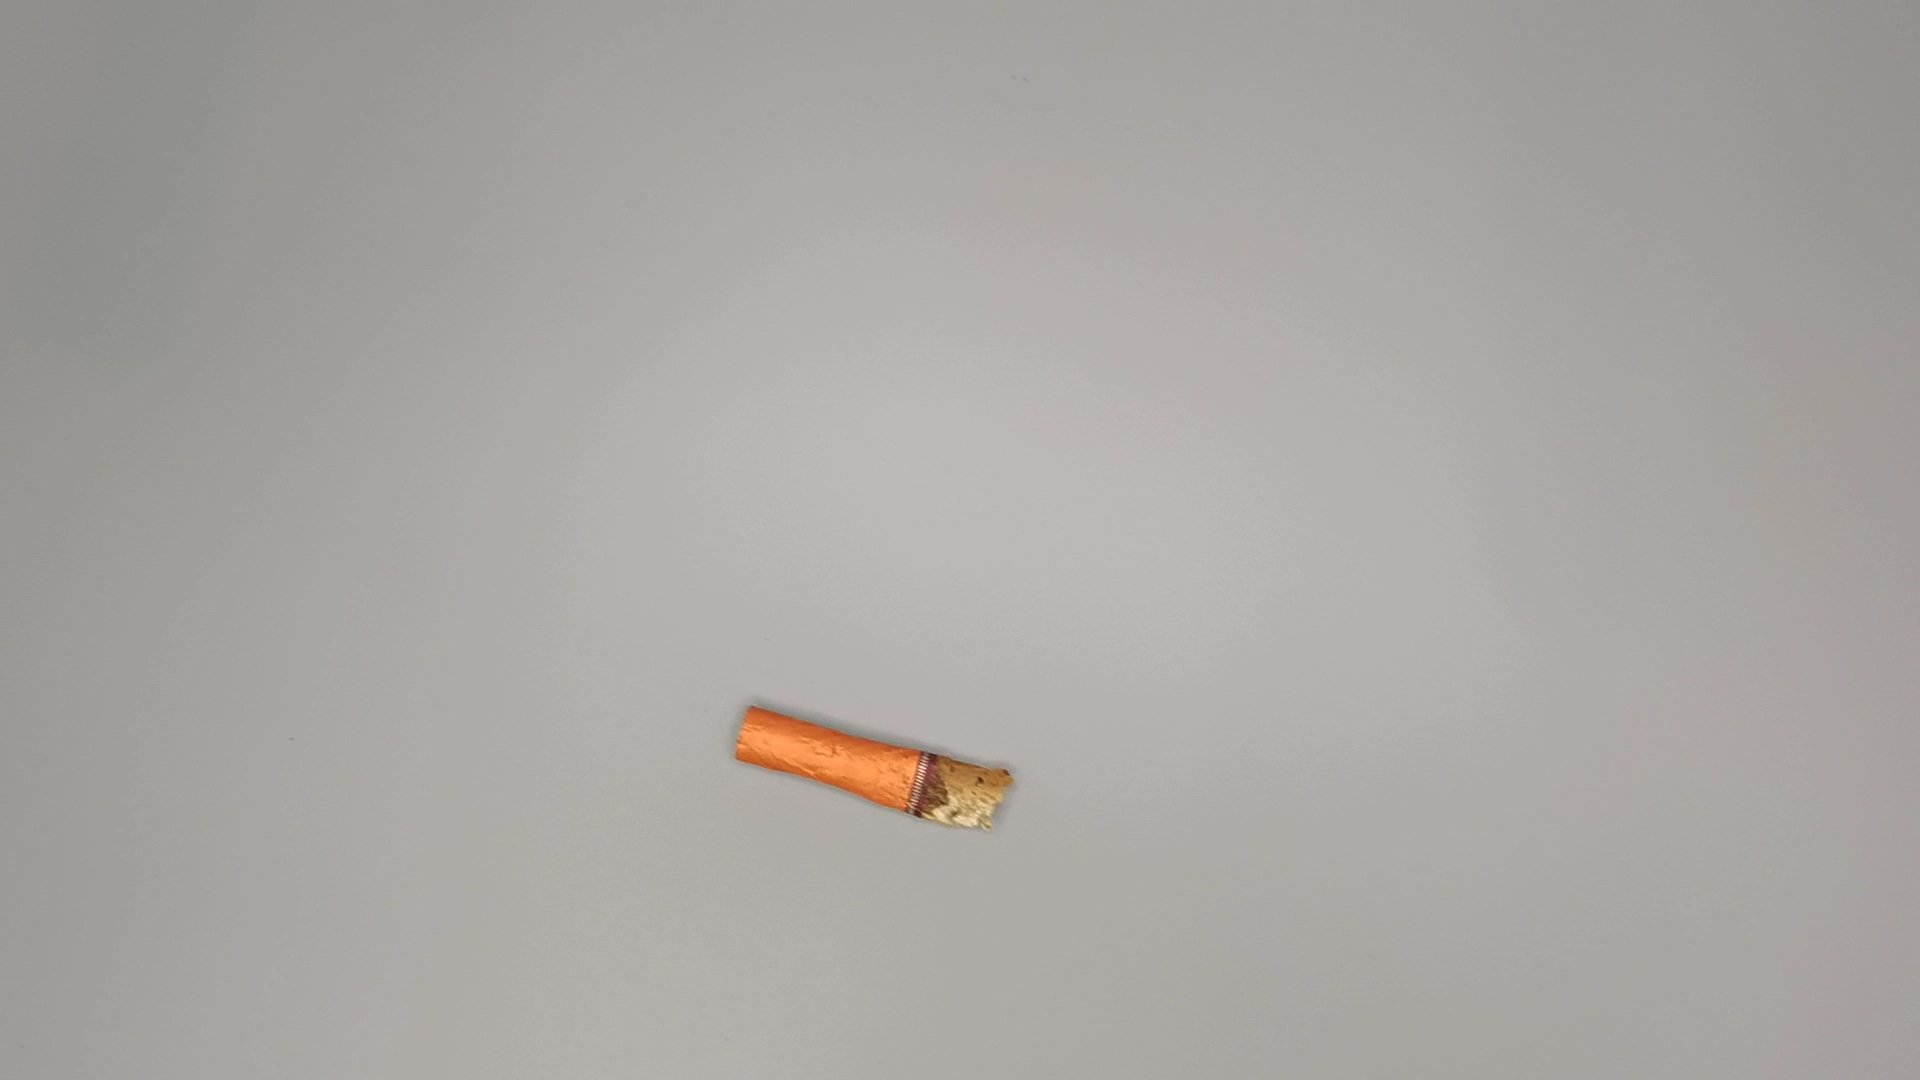cigarette: (727, 698, 1018, 835)
